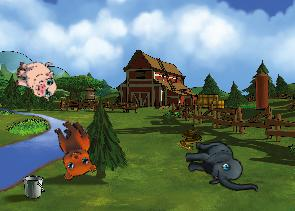bear: (40, 115, 104, 185)
elephant: (183, 136, 258, 199)
pig: (12, 57, 59, 101)
